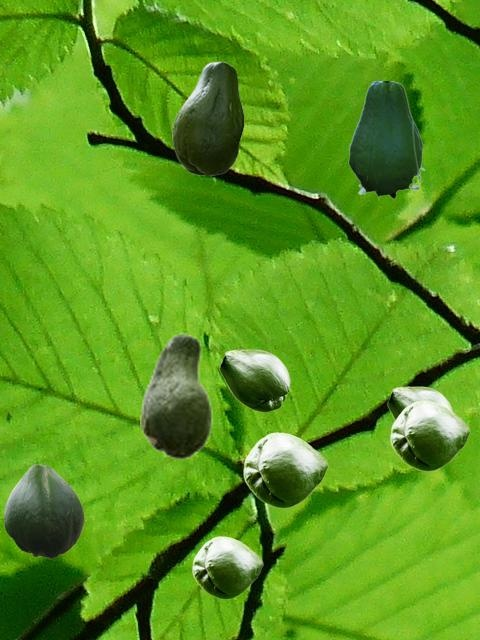sayote: (348, 81, 424, 200), (140, 333, 211, 459), (172, 61, 243, 174), (4, 464, 83, 558), (243, 432, 327, 507), (390, 400, 469, 470), (219, 349, 289, 411), (192, 536, 262, 598), (387, 386, 452, 420)
